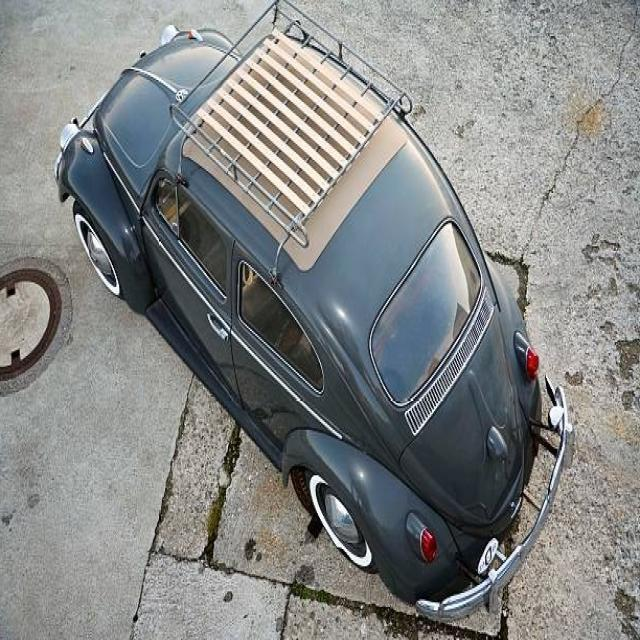car: (62, 29, 546, 591)
